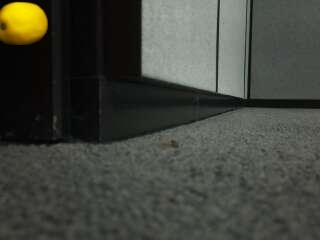Lemon: (0, 2, 48, 46)
